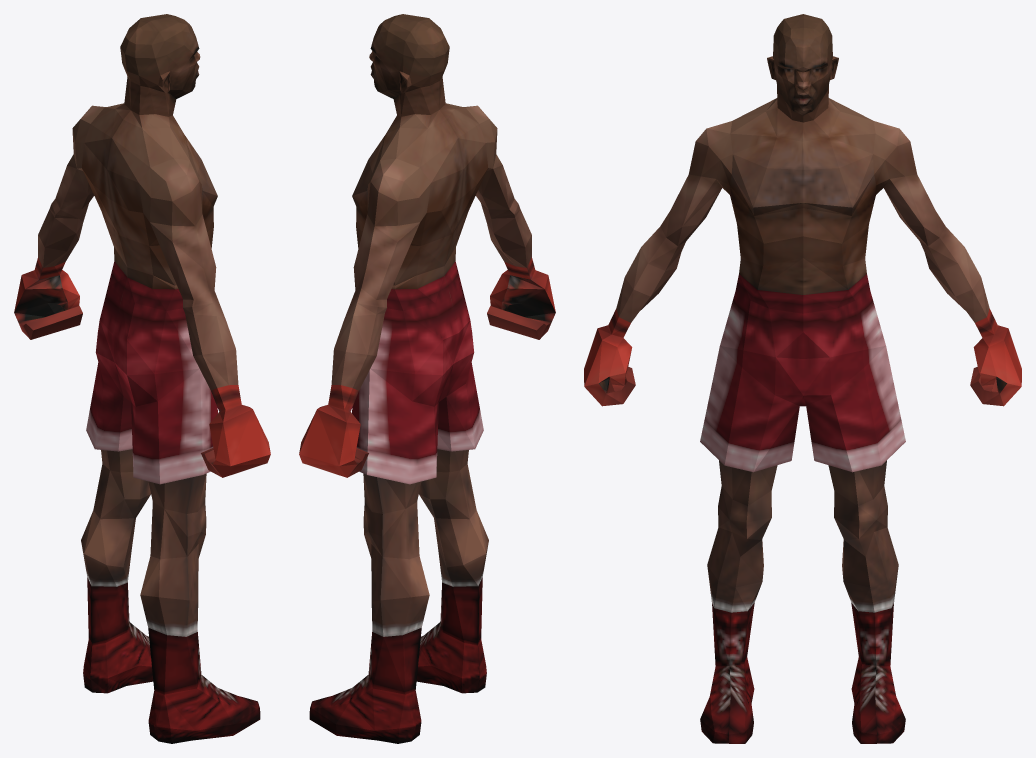
Rendered from vbmybox.obj.
The picture shows the model from 3 angles, left to right: view 1: azimuth 30°, elevation 25°; view 2: azimuth 150°, elevation 25°; view 3: azimuth 270°, elevation 25°; orthographic projection.
Parts seen in each view (by area): view 1: _Pelvis; view 2: _Pelvis; view 3: _Pelvis.
Part boxes in pixels (left/top/right/bottom): _Pelvis: left=14, top=14, right=270, bottom=743; _Pelvis: left=299, top=14, right=555, bottom=743; _Pelvis: left=584, top=14, right=1021, bottom=743.
Bounding box in the file's own units: 0.3276 × 1.83 × 1.04.
Materials: 1 (1 with a texture image).
